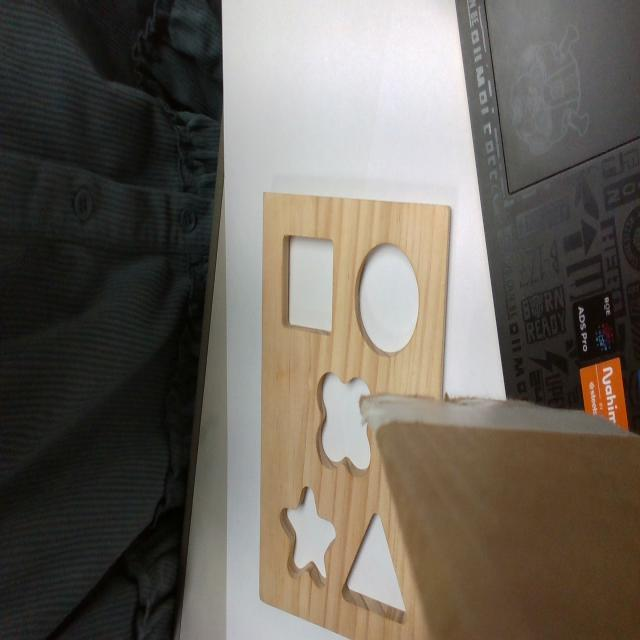circle: (356, 245, 420, 354)
flower: (315, 372, 373, 477)
square: (285, 237, 334, 335)
star: (282, 487, 336, 585)
triangle: (341, 509, 407, 624)
